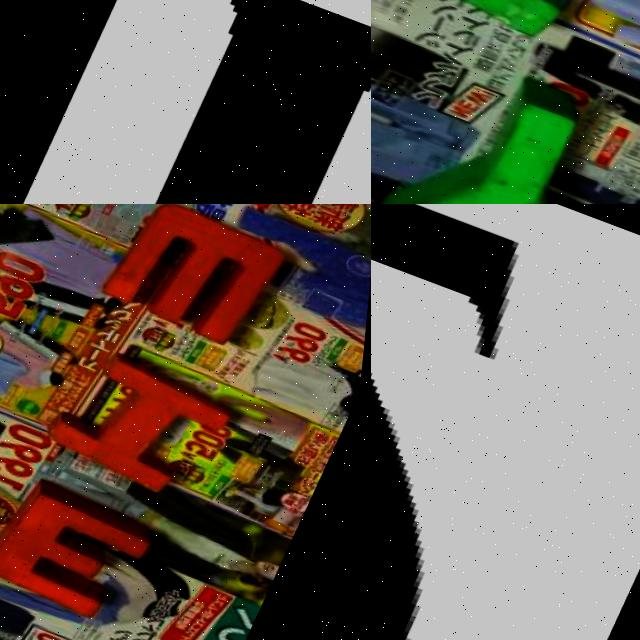2: (371, 204, 594, 640)
E: (0, 475, 180, 631)
F: (371, 0, 640, 41)
I: (47, 347, 248, 503)
N: (0, 0, 371, 204)
W: (103, 204, 304, 352)
Y: (379, 61, 640, 204)
